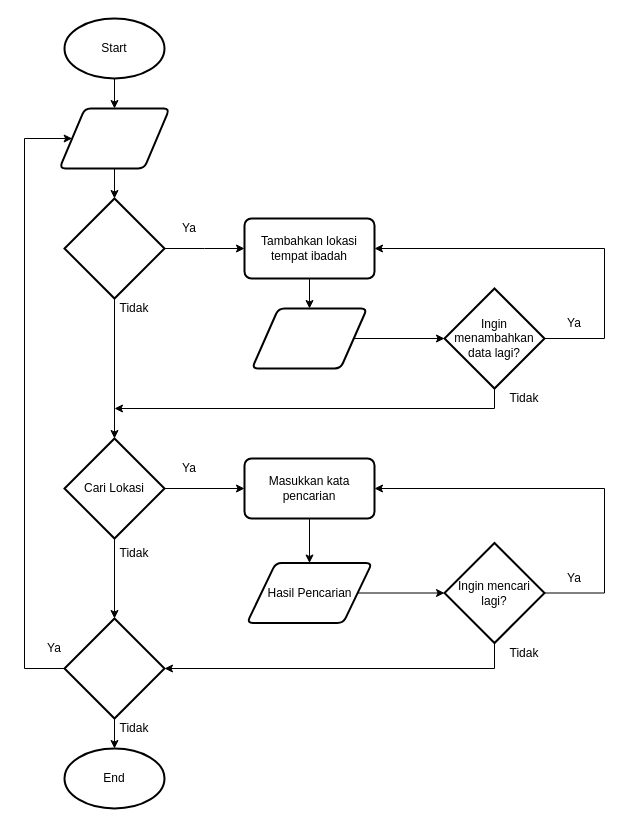
Some shapes in this 630 by 826 pixel diagram are drawn without their labels. The centre of each missing label's shape, as x and y in pixels:
"Lihat peta" goes at pixel 114 138.
"Lihat Peta?" goes at pixel 114 668.
"Menampilkan Data Baru" goes at pixel 309 338.
"Tambahkan Data" goes at pixel 114 248.
